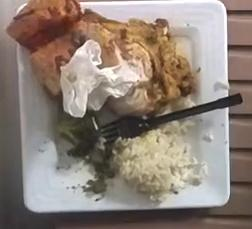broccoli: (60, 111, 99, 158)
chicken: (73, 9, 194, 116)
pizza_crust: (6, 0, 83, 96)
rice: (112, 121, 206, 201)
